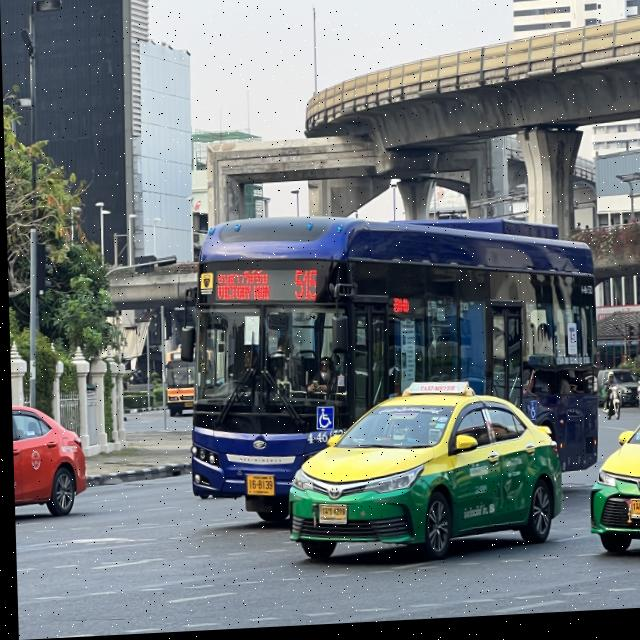Bus Line Number: (286, 267, 322, 308)
Bus Side Number: (303, 430, 342, 449)
Destination Sign: (212, 268, 271, 309)
TSB-Bus: (186, 220, 595, 527)
